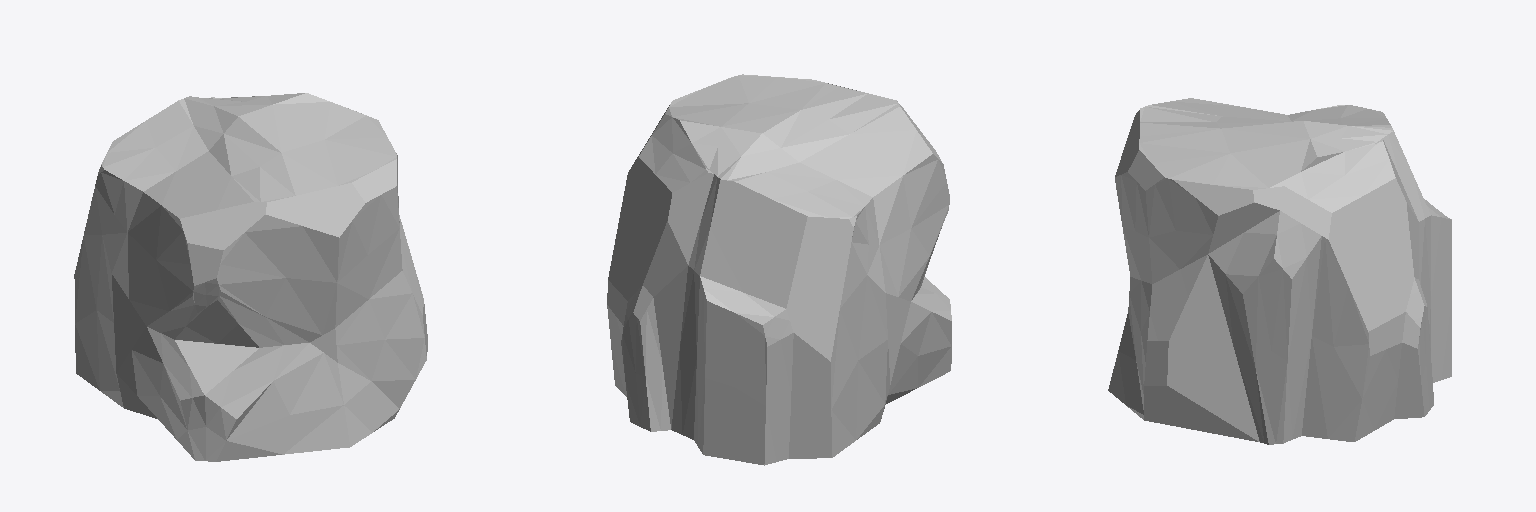
The model's file is Rock_03_Hite.obj.
The picture shows the model from 3 angles: view 1: azimuth 30°, elevation 25°; view 2: azimuth 150°, elevation 25°; view 3: azimuth 270°, elevation 25°; orthographic projection.
Visible parts, largest first — view 1: pCube1; view 2: pCube1; view 3: pCube1.
Boxes of the visible parts, x1,y1,x2,y2 form: pCube1: [74, 93, 427, 461]; pCube1: [607, 74, 951, 465]; pCube1: [1108, 98, 1451, 444].
Bounding box in the file's own units: 15.13 × 14.63 × 17.2.